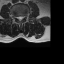CCS_normal: (19, 14, 21, 22)
LFS_normal: (24, 13, 26, 19)
LLS_normal: (21, 14, 24, 21)
RFS_stenosis: (14, 14, 16, 20)
RLS_normal: (16, 14, 19, 21)
